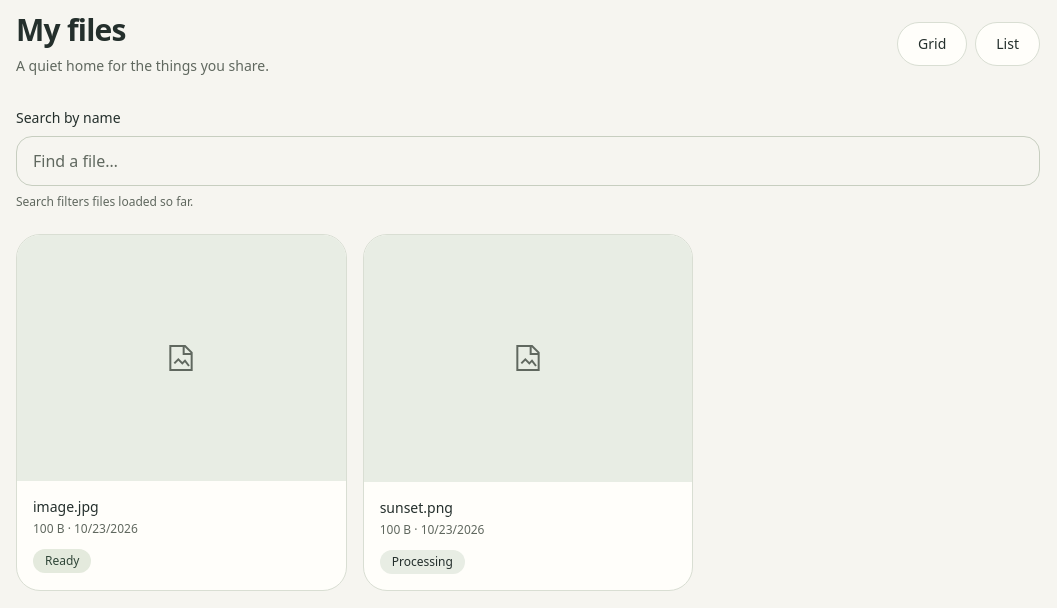
scrolls with next_cursor, filters loaded names, and toggles views
Expected: the button "image.jpg" is shown, [33,498,99,518]
Expected: the button "sunset.png" is shown, [380,498,453,518]
Click the button "List".
click(1008, 44)  # box [975,22,1040,66]
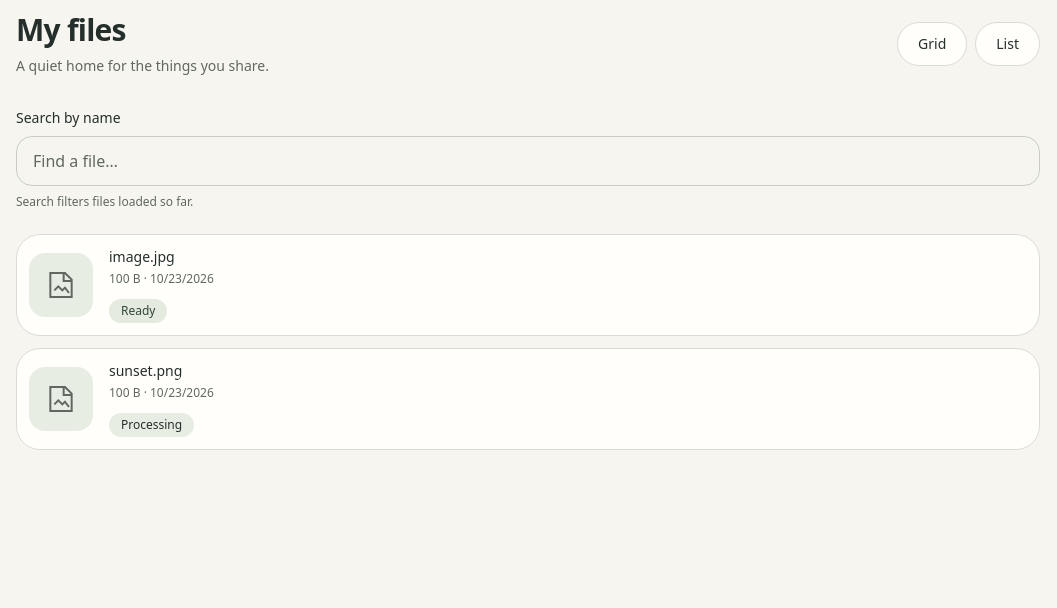
Type "SUNSET" into the search field.
click(528, 161); type("SUNSET")  # box [16,136,1040,186]
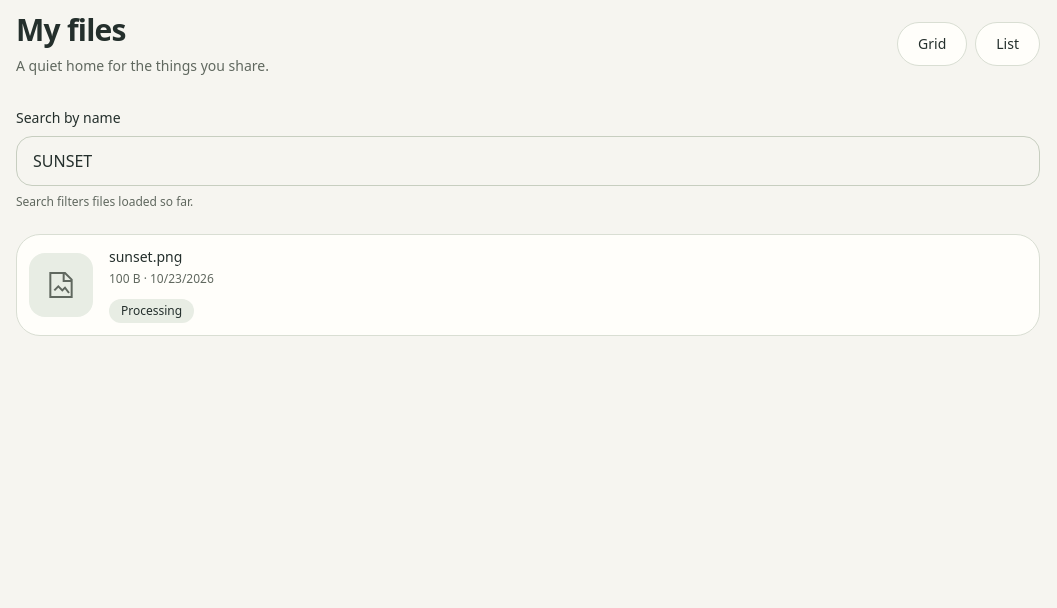
Expected: the button "sunset.png" is shown, [109,247,182,267]
Expected: the button "image.jpg" is gone
